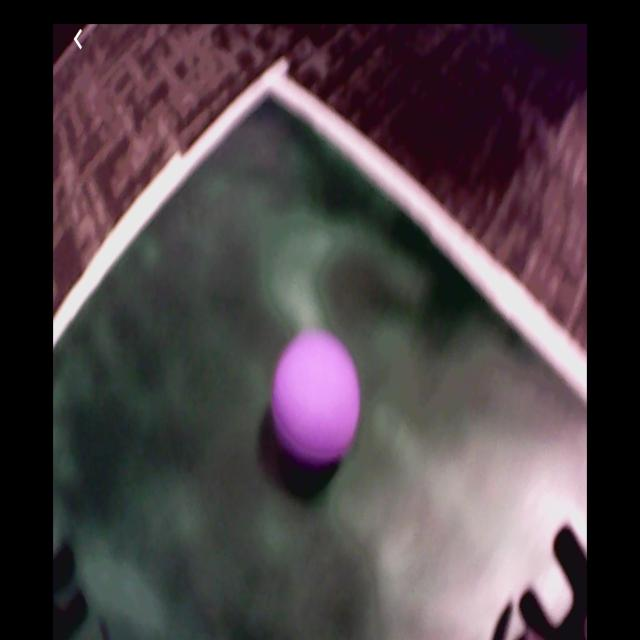ball: (273, 333, 359, 467)
